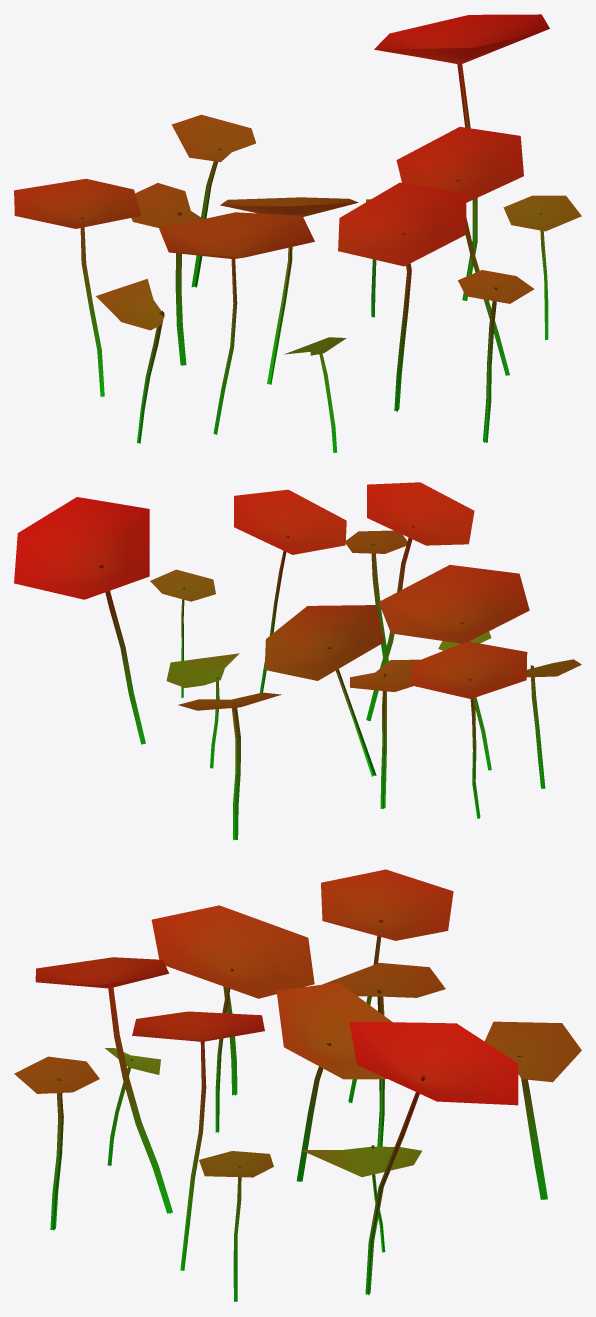
Rendered from Var7_LOD0.fbx.
3 views of the same model, one above another, from view 1: azimuth 30°, elevation 25°; view 2: azimuth 150°, elevation 25°; view 3: azimuth 270°, elevation 25° (orthographic). The views are drawn at different scales.
Visible parts, largest first — view 1: _e445_Var7_LOD0; view 2: _e445_Var7_LOD0; view 3: _e445_Var7_LOD0.
Boxes of the visible parts, x1,y1,x2,y2 form: _e445_Var7_LOD0: (14, 14, 581, 452); _e445_Var7_LOD0: (14, 482, 581, 840); _e445_Var7_LOD0: (14, 869, 581, 1301).
Size of the model in its own units: 21 by 9.6 by 17.73.
